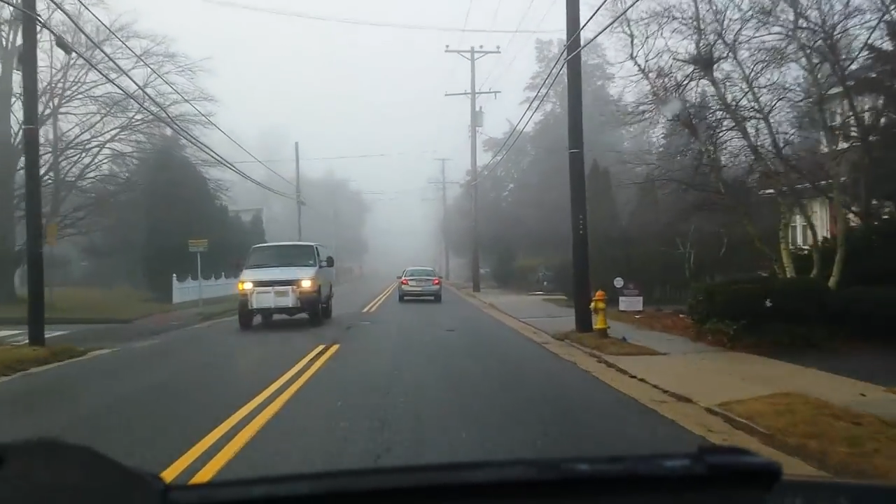car: (234, 241, 336, 329), (395, 266, 445, 304)
